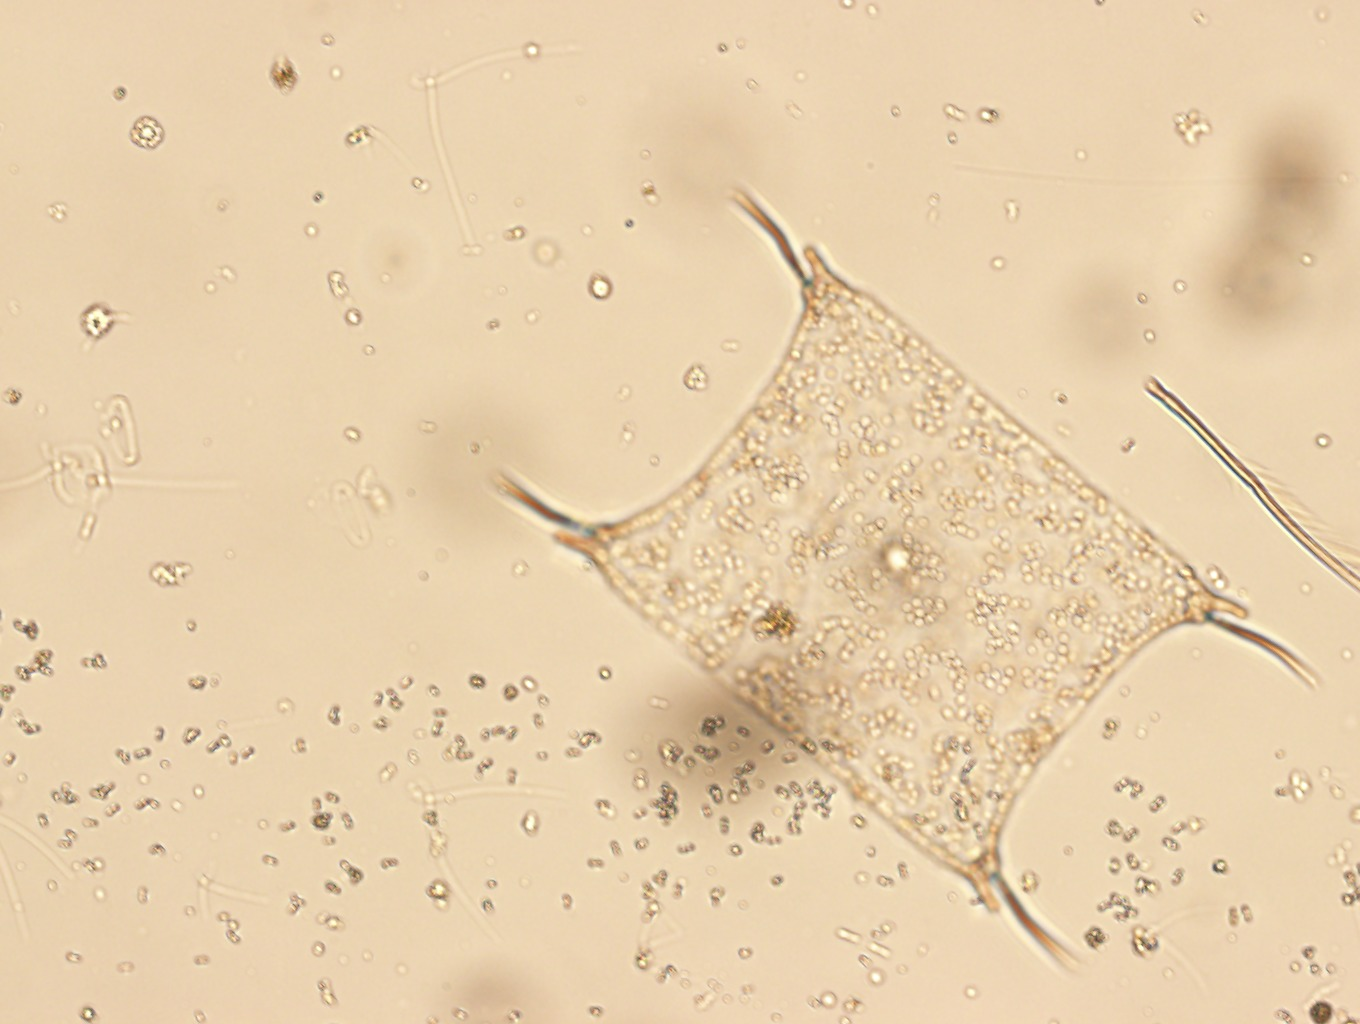biddulphia: (478, 185, 1323, 977)
